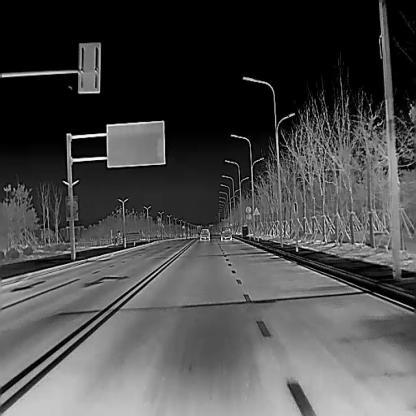car: (220, 227, 232, 240), (199, 228, 209, 241)
